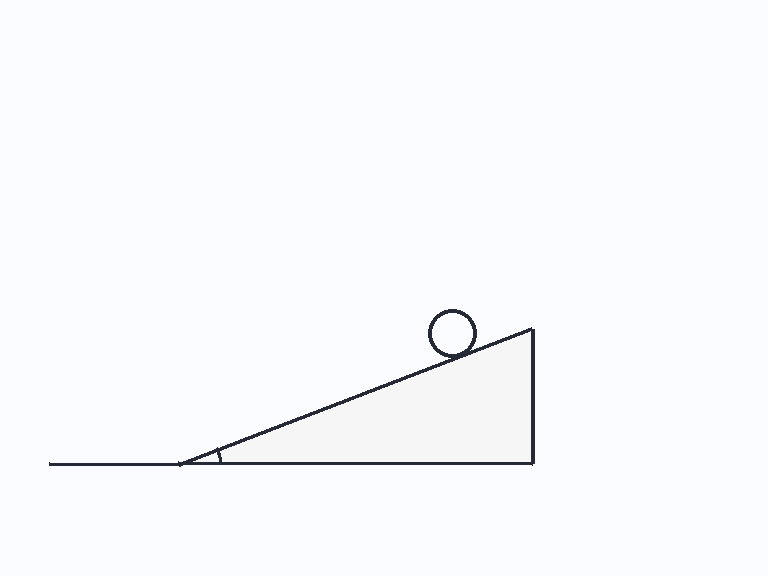ball: (426, 307, 478, 359)
ramp: (178, 326, 533, 465)
